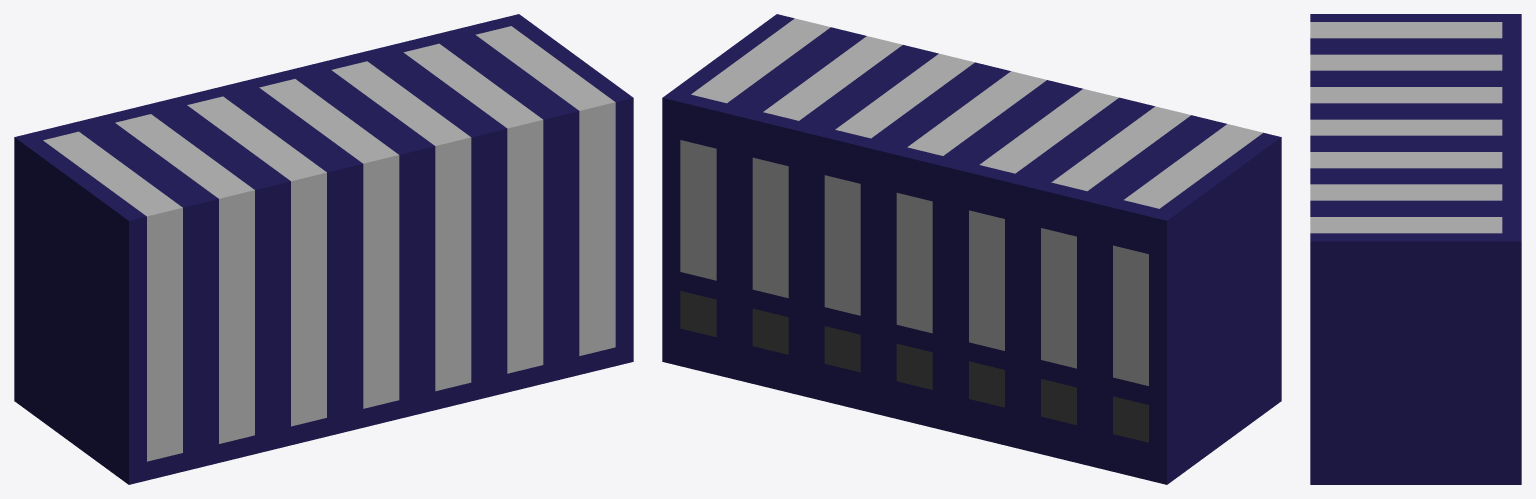
File: files_box_02.dae
The picture shows the model from 3 angles, left to right: view 1: azimuth 30°, elevation 25°; view 2: azimuth 150°, elevation 25°; view 3: azimuth 270°, elevation 25°; orthographic projection. The views are drawn at different scales.
Parts seen in each view (by area): view 1: Untitled; view 2: Untitled; view 3: Untitled.
Part boxes in pixels (bbox=[...]): Untitled: bbox=[14, 14, 633, 484]; Untitled: bbox=[662, 14, 1281, 484]; Untitled: bbox=[1310, 14, 1521, 484].
Size of the model in its own units: 0.84 by 0.33 by 0.42.
1 material, 1 textured.
